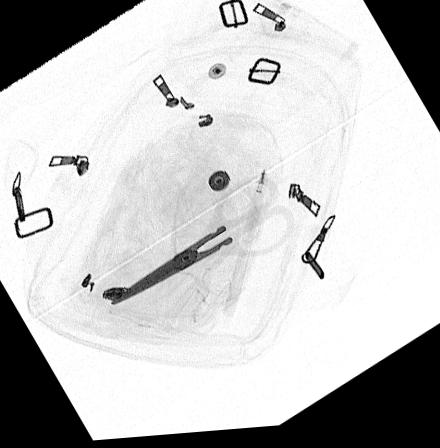Scissors: (110, 177, 296, 308)
